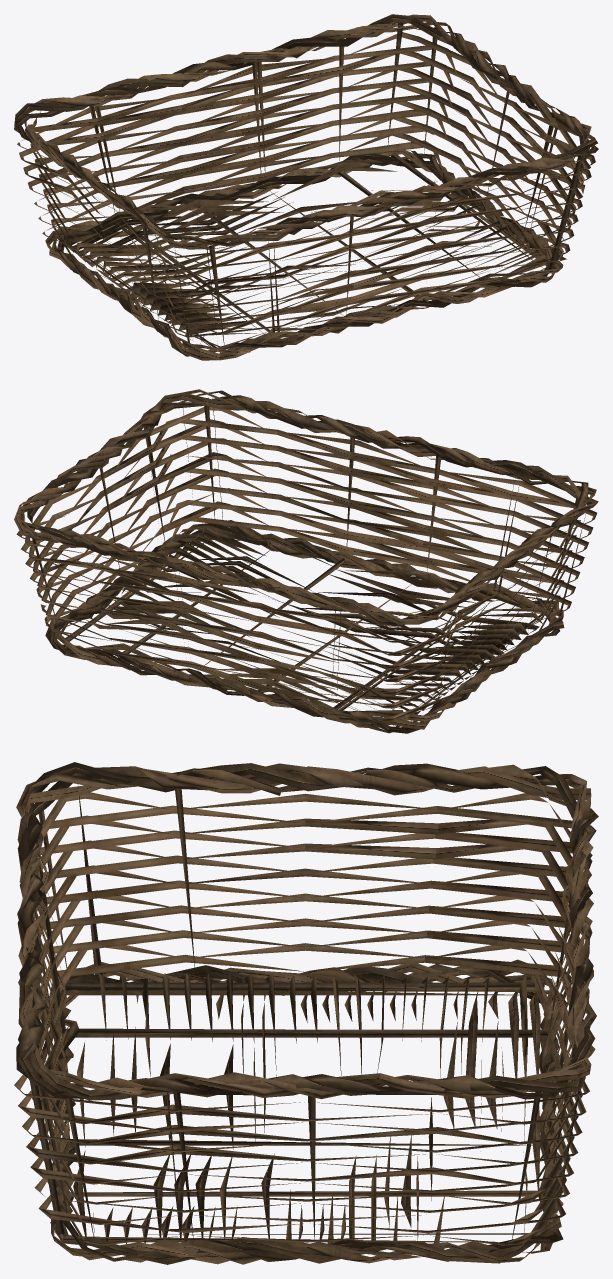
Rendered from wicker_basket_01_1k.gltf.
3 views of the same model, one above another, from view 1: azimuth 30°, elevation 25°; view 2: azimuth 150°, elevation 25°; view 3: azimuth 270°, elevation 25° (orthographic). The views are drawn at different scales.
Visible parts, largest first — view 1: wicker_basket_01; view 2: wicker_basket_01; view 3: wicker_basket_01.
Boxes of the visible parts, bbox=[...] form: wicker_basket_01: bbox=[14, 14, 598, 360]; wicker_basket_01: bbox=[14, 389, 598, 733]; wicker_basket_01: bbox=[14, 762, 598, 1264].
Size of the model in its own units: 0.383 by 0.1174 by 0.2939.
1 material, 1 textured.
